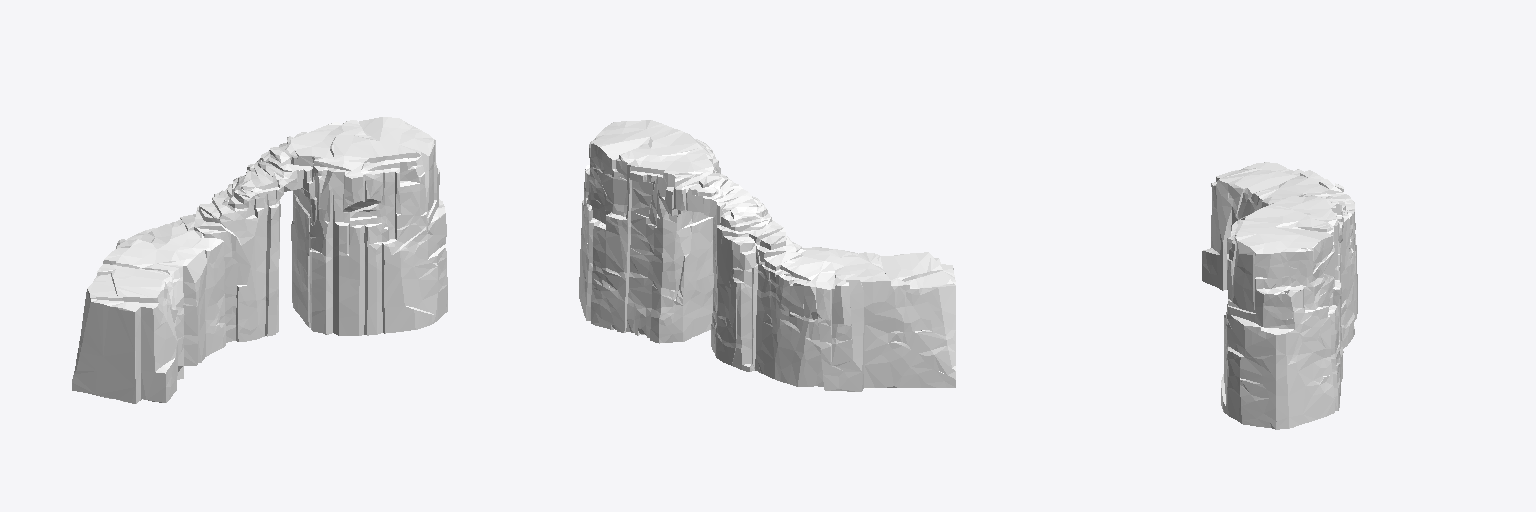
Rendered from podium.obj.
The picture shows the model from 3 angles: view 1: azimuth 30°, elevation 25°; view 2: azimuth 150°, elevation 25°; view 3: azimuth 270°, elevation 25°; orthographic projection.
Parts seen in each view (by area): view 1: podium (2); view 2: podium (2); view 3: podium (2).
Boxes of the visible parts, x1=… form: podium (2): x1=72, y1=117, x2=447, y2=403; podium (2): x1=579, y1=120, x2=955, y2=391; podium (2): x1=1202, y1=162, x2=1357, y2=429.
Size of the model in its own units: 40.74 by 18.47 by 14.78.